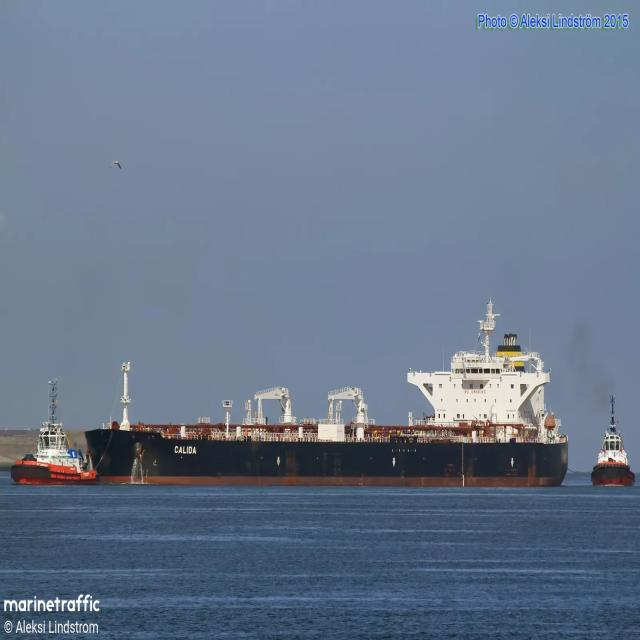Tanker: (85, 301, 567, 486)
Tug: (11, 381, 97, 484), (591, 396, 635, 486)
